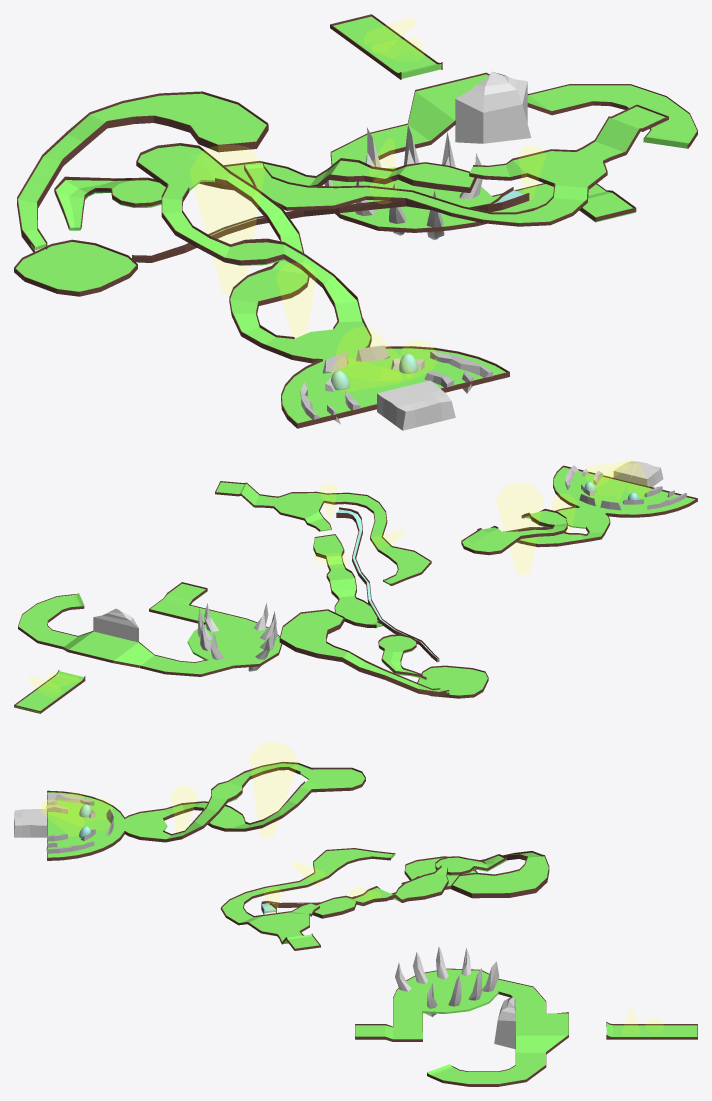
Rendered from HoleSet06_Dragons.fbx.
3 renders of one model, top to bottom at view 1: azimuth 30°, elevation 25°; view 2: azimuth 150°, elevation 25°; view 3: azimuth 270°, elevation 25°, orthographic. The views are drawn at different scales.
Parts seen in each view (by area): view 1: Cube.093, Cylinder.045, Cube.094, Cube.089, Cylinder.053, Cylinder.046, Cube.092, Cube.090, Cylinder.047, Cube.088, Cube.095, rock.337 (+8 smaller); view 2: Cube.093, Cube.089, Cylinder.045, Cube.094, Cylinder.053, Cylinder.046, Cube.090, rock.337, Cube.088, Cylinder.047, Cube.092, Cylinder.055 (+4 smaller); view 3: Cube.089, Cube.093, Cylinder.045, Cube.094, Cylinder.046, Cylinder.053, rock.337, Cylinder.047, Cube.090, Cube.088, Cylinder.055, Cube.095 (+3 smaller).
Boxes of the visible parts, x1=… form: Cube.093: x1=16, y1=93, x2=665, y2=291; Cylinder.045: x1=138, y1=145, x2=505, y2=423; Cube.094: x1=14, y1=91, x2=668, y2=296; Cube.089: x1=331, y1=74, x2=696, y2=228; Cylinder.053: x1=190, y1=145, x2=264, y2=293; Cylinder.046: x1=136, y1=143, x2=509, y2=428; Cube.092: x1=455, y1=71, x2=531, y2=143; Cube.090: x1=330, y1=72, x2=697, y2=232; Cylinder.047: x1=300, y1=345, x2=492, y2=424; Cube.088: x1=333, y1=16, x2=441, y2=78; Cube.095: x1=377, y1=380, x2=455, y2=430; rock.337: x1=324, y1=125, x2=482, y2=240; Cube.093: x1=216, y1=482, x2=487, y2=695; Cube.089: x1=18, y1=583, x2=281, y2=674; Cylinder.045: x1=462, y1=467, x2=695, y2=551; Cube.094: x1=215, y1=481, x2=488, y2=698; Cylinder.053: x1=496, y1=483, x2=542, y2=573; Cylinder.046: x1=461, y1=465, x2=697, y2=555; Cube.090: x1=18, y1=582, x2=282, y2=676; rock.337: x1=197, y1=603, x2=277, y2=671; Cube.088: x1=14, y1=671, x2=83, y2=712; Cylinder.047: x1=565, y1=465, x2=686, y2=510; Cube.092: x1=93, y1=608, x2=138, y2=642; Cylinder.055: x1=589, y1=459, x2=635, y2=500; Cube.089: x1=355, y1=969, x2=568, y2=1083; Cube.093: x1=222, y1=849, x2=548, y2=948; Cylinder.045: x1=47, y1=763, x2=364, y2=857; Cube.094: x1=220, y1=848, x2=549, y2=950; Cylinder.046: x1=47, y1=762, x2=365, y2=860; Cylinder.053: x1=250, y1=743, x2=297, y2=837; rock.337: x1=395, y1=946, x2=499, y2=1017; Cylinder.047: x1=46, y1=793, x2=113, y2=853; Cube.090: x1=355, y1=968, x2=568, y2=1086; Cube.088: x1=606, y1=1023, x2=697, y2=1036; Cylinder.055: x1=43, y1=798, x2=111, y2=821; Cube.095: x1=14, y1=809, x2=46, y2=837.
Bounding box in the file's own units: 7119 × 2342 × 9067.
